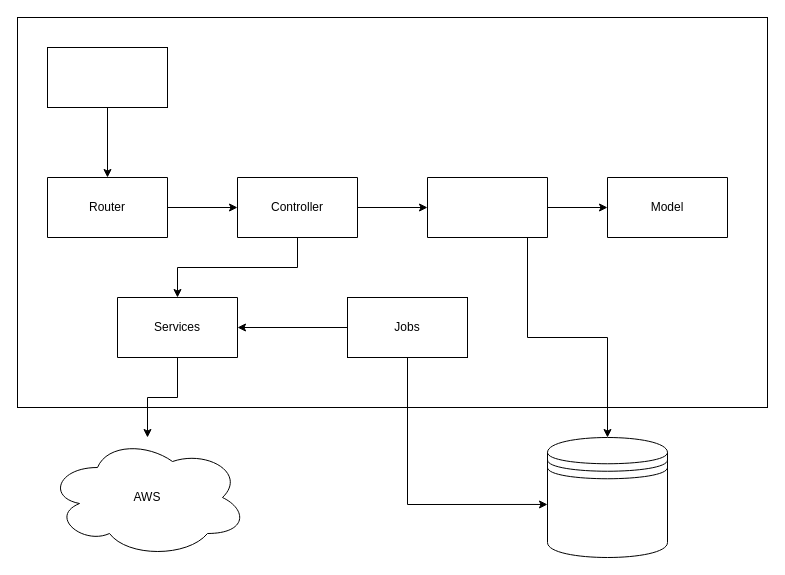
This 785x575 diagram has some shape labels left out. The box of each missing label's shape, as (x1, y1, x2, y2) in pixels:
Database: (546, 436, 668, 558)
Main: (46, 46, 168, 108)
Repository: (426, 176, 548, 238)
